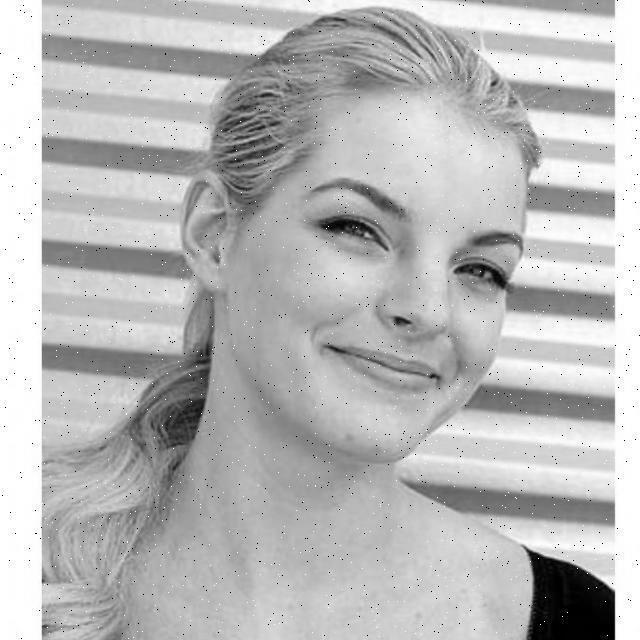real: (225, 58, 532, 472)
